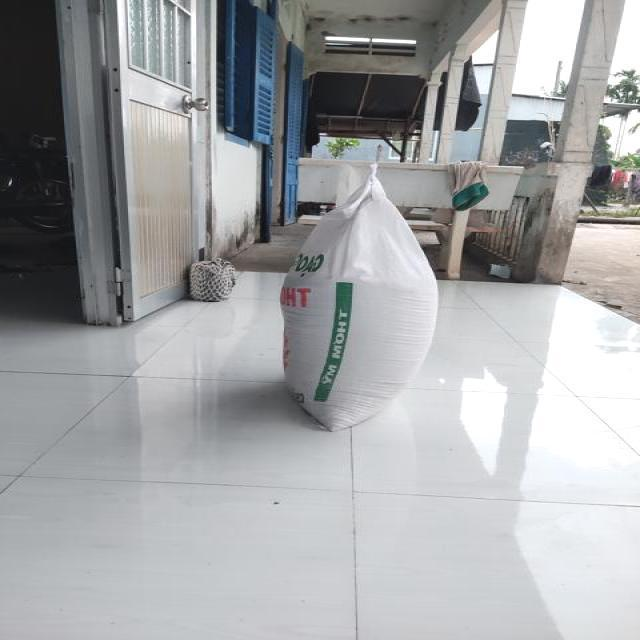gunny_bag: (280, 165, 439, 432)
